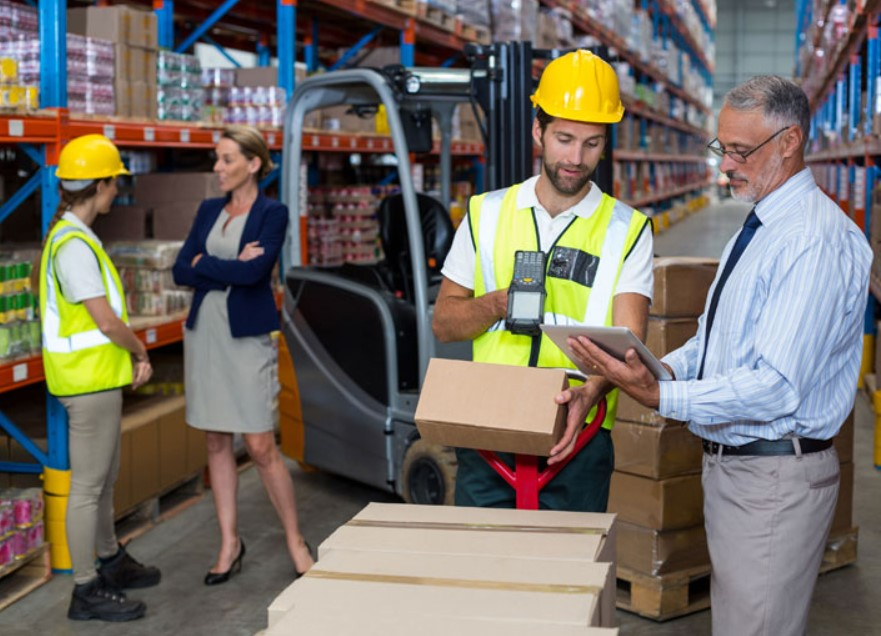stock: (413, 357, 568, 457)
worker: (464, 49, 645, 360), (40, 134, 137, 393)
